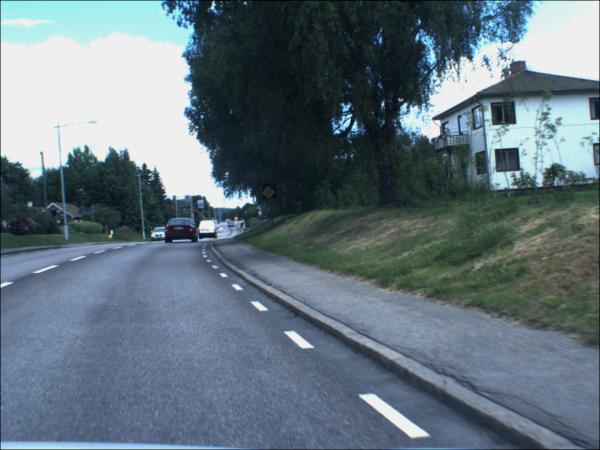PRIORITY_ROAD: (265, 185, 279, 201)
